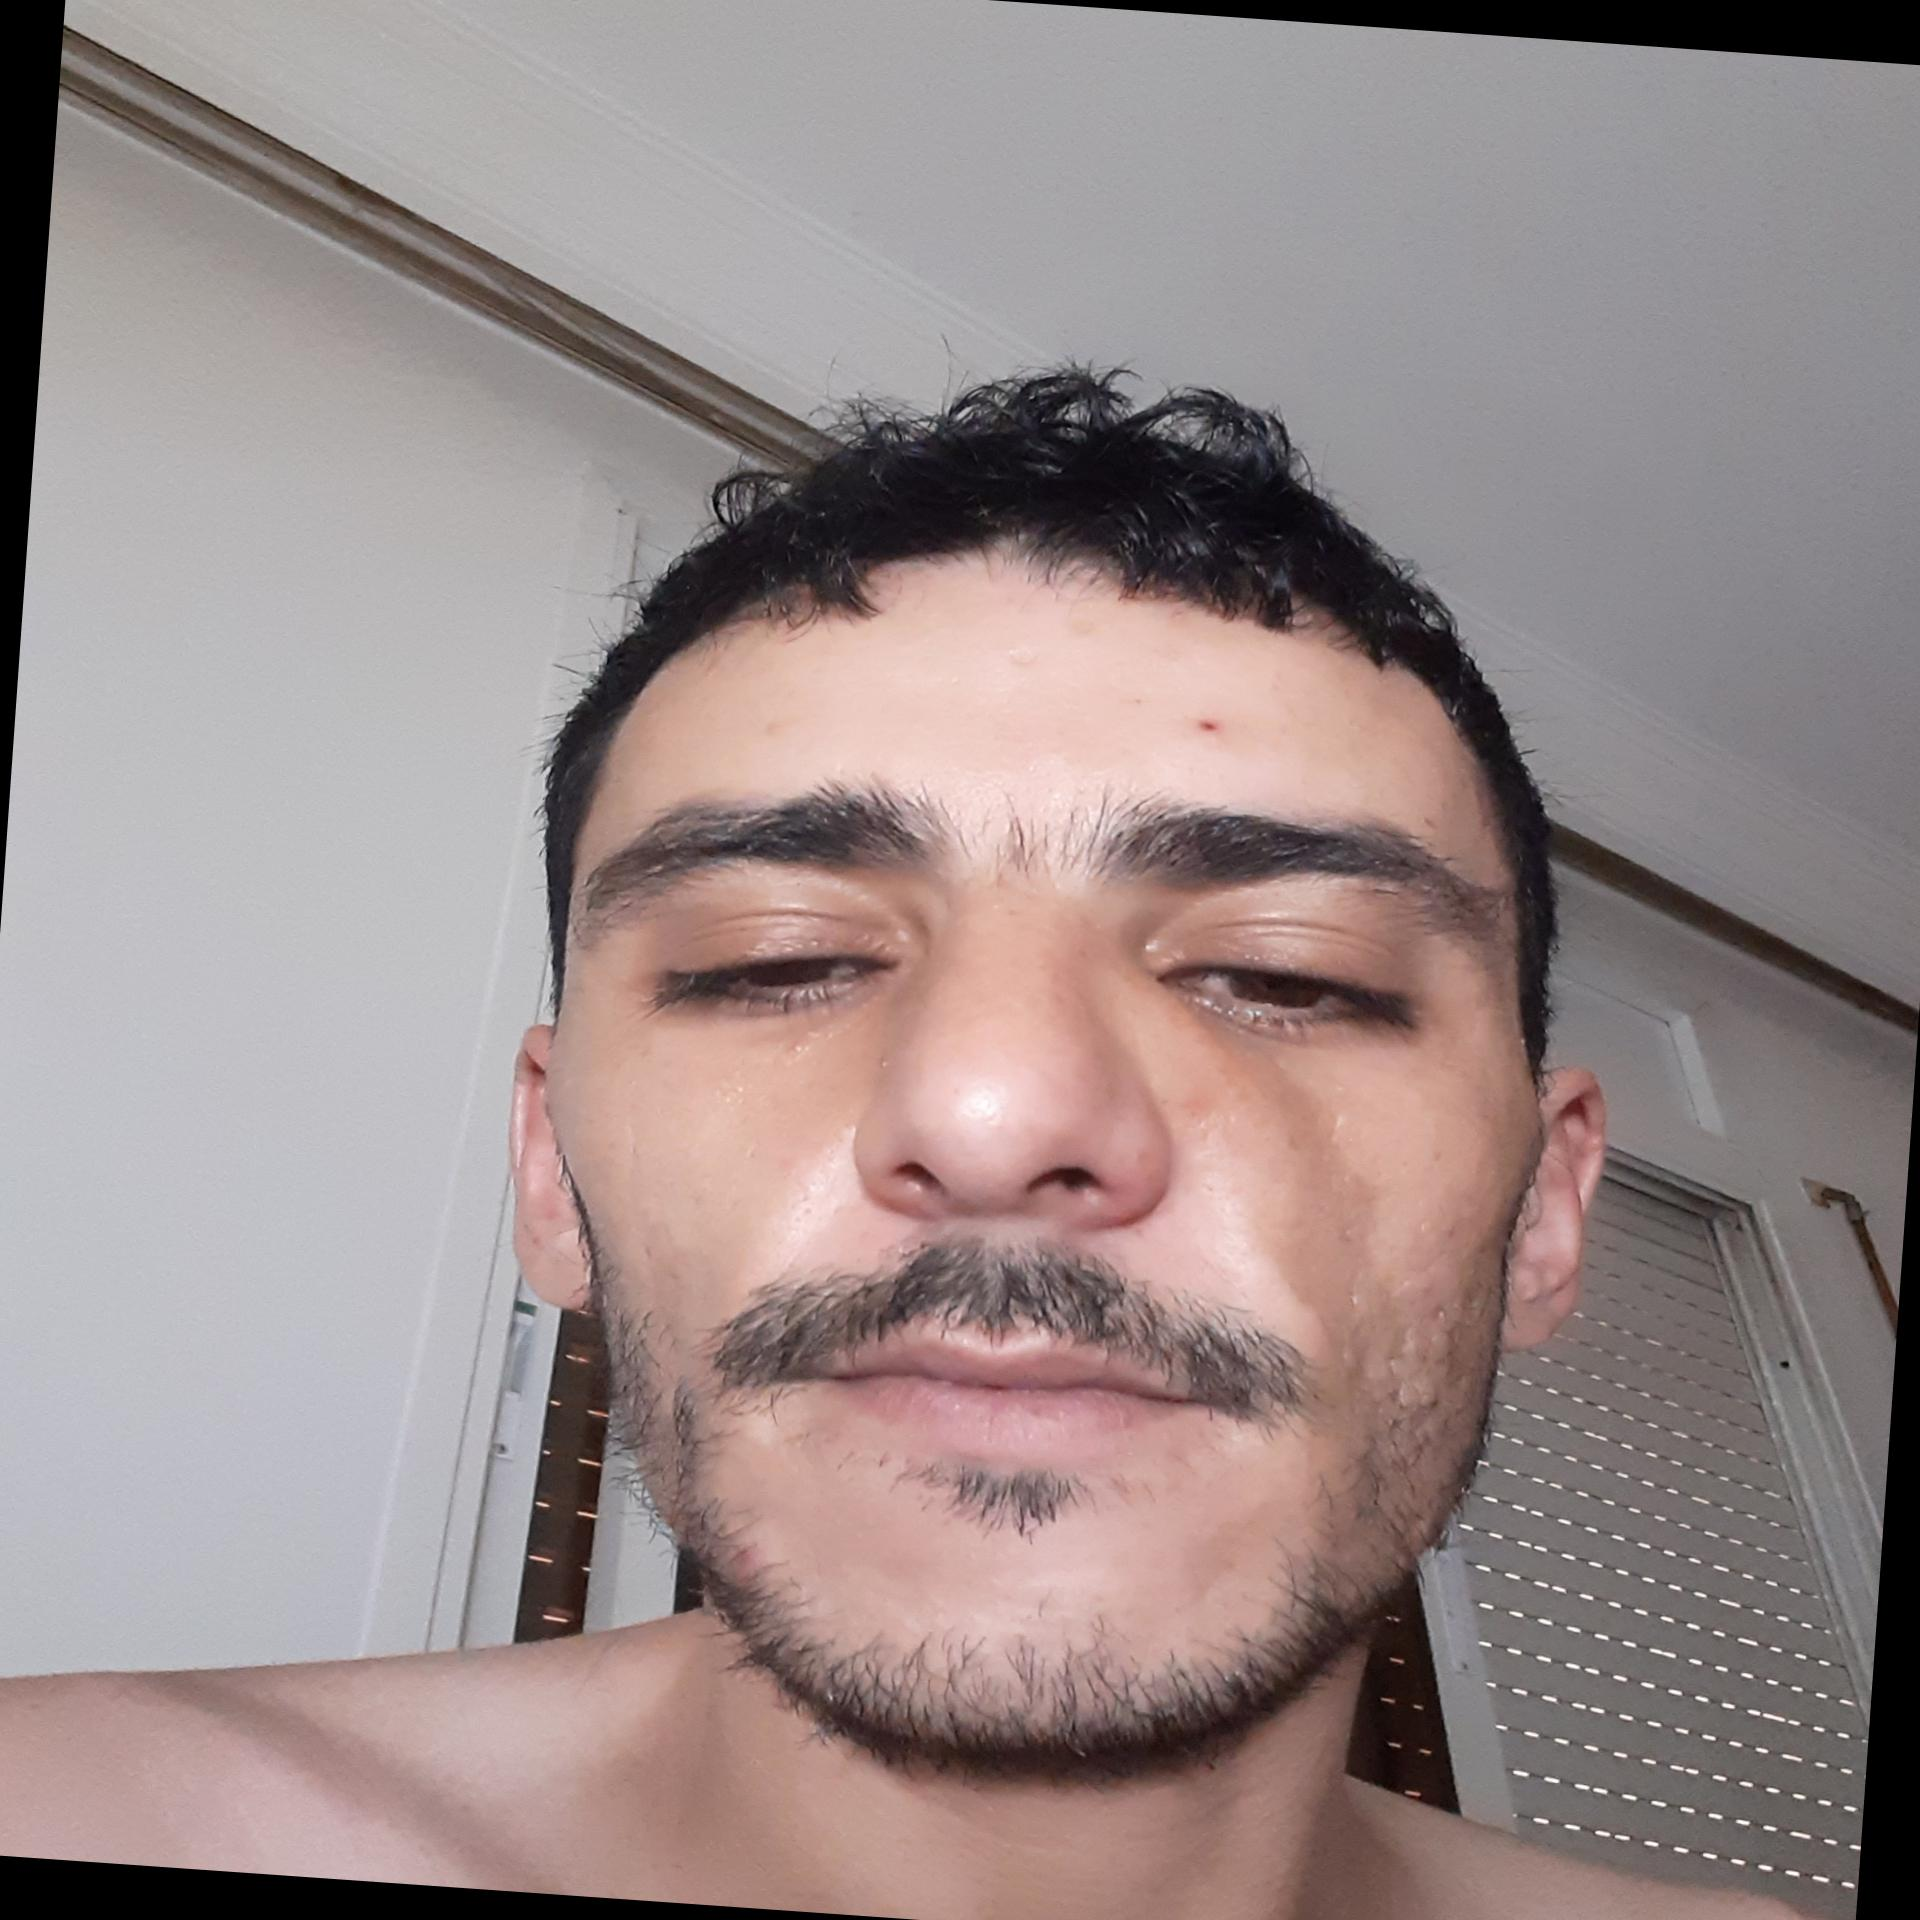Acne: (1176, 1085, 1224, 1127), (1192, 714, 1227, 737)
Englarged Pores: (1324, 1278, 1491, 1436), (1401, 1187, 1498, 1273)
